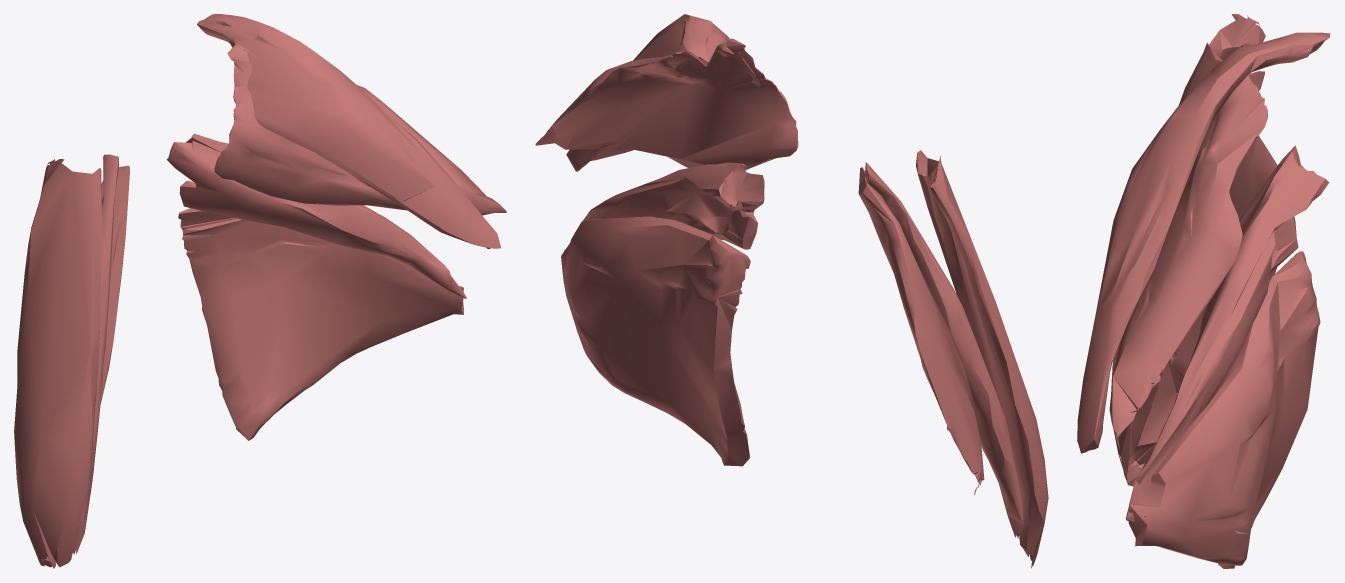
Rendered from muscular-hand-left.glb.
3 views of the same model, side by side, from view 1: azimuth 30°, elevation 25°; view 2: azimuth 150°, elevation 25°; view 3: azimuth 270°, elevation 25° (orthographic). The views are drawn at different scales.
Parts seen in each view (by area): view 1: bp3d_FMA46124_FJ1515M, bp3d_FMA37397_FJ1466M, bp3d_FMA37387_FJ1483M, bp3d_FMA37391_FJ1501M, bp3d_FMA46122_FJ1481M, bp3d_FMA37399_FJ1470M, bp3d_FMA37401_FJ1482M; view 2: bp3d_FMA46124_FJ1515M, bp3d_FMA37391_FJ1501M, bp3d_FMA37397_FJ1466M, bp3d_FMA37399_FJ1470M, bp3d_FMA37401_FJ1482M, bp3d_FMA46122_FJ1481M, bp3d_FMA37387_FJ1483M; view 3: bp3d_FMA46124_FJ1515M, bp3d_FMA37391_FJ1501M, bp3d_FMA37387_FJ1483M, bp3d_FMA46122_FJ1481M, bp3d_FMA37397_FJ1466M, bp3d_FMA37401_FJ1482M, bp3d_FMA37399_FJ1470M.
Part boxes in pixels (<box>): bp3d_FMA46124_FJ1515M: <box>178,208,463,440</box>; bp3d_FMA37397_FJ1466M: <box>14,159,102,568</box>; bp3d_FMA37387_FJ1483M: <box>197,14,500,249</box>; bp3d_FMA37391_FJ1501M: <box>214,44,506,215</box>; bp3d_FMA46122_FJ1481M: <box>167,133,466,298</box>; bp3d_FMA37399_FJ1470M: <box>72,154,118,554</box>; bp3d_FMA37401_FJ1482M: <box>100,165,129,403</box>; bp3d_FMA46124_FJ1515M: <box>561,216,750,466</box>; bp3d_FMA37391_FJ1501M: <box>535,38,798,169</box>; bp3d_FMA37397_FJ1466M: <box>916,150,1048,568</box>; bp3d_FMA37399_FJ1470M: <box>865,162,1023,538</box>; bp3d_FMA37401_FJ1482M: <box>858,167,984,494</box>; bp3d_FMA46122_FJ1481M: <box>564,162,764,250</box>; bp3d_FMA37387_FJ1483M: <box>566,14,760,171</box>; bp3d_FMA46124_FJ1515M: <box>1128,251,1320,568</box>; bp3d_FMA37391_FJ1501M: <box>1109,43,1267,437</box>; bp3d_FMA37387_FJ1483M: <box>1077,32,1330,453</box>; bp3d_FMA46122_FJ1481M: <box>1125,145,1329,521</box>; bp3d_FMA37397_FJ1466M: <box>1111,14,1265,486</box>; bp3d_FMA37401_FJ1482M: <box>1168,92,1277,393</box>; bp3d_FMA37399_FJ1470M: <box>1118,71,1264,479</box>.
Size of the model in its own units: 0.085 by 0.0785 by 0.0297.
